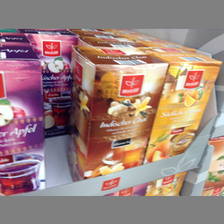tea: (64, 43, 167, 182), (143, 46, 221, 161), (1, 44, 49, 194)
